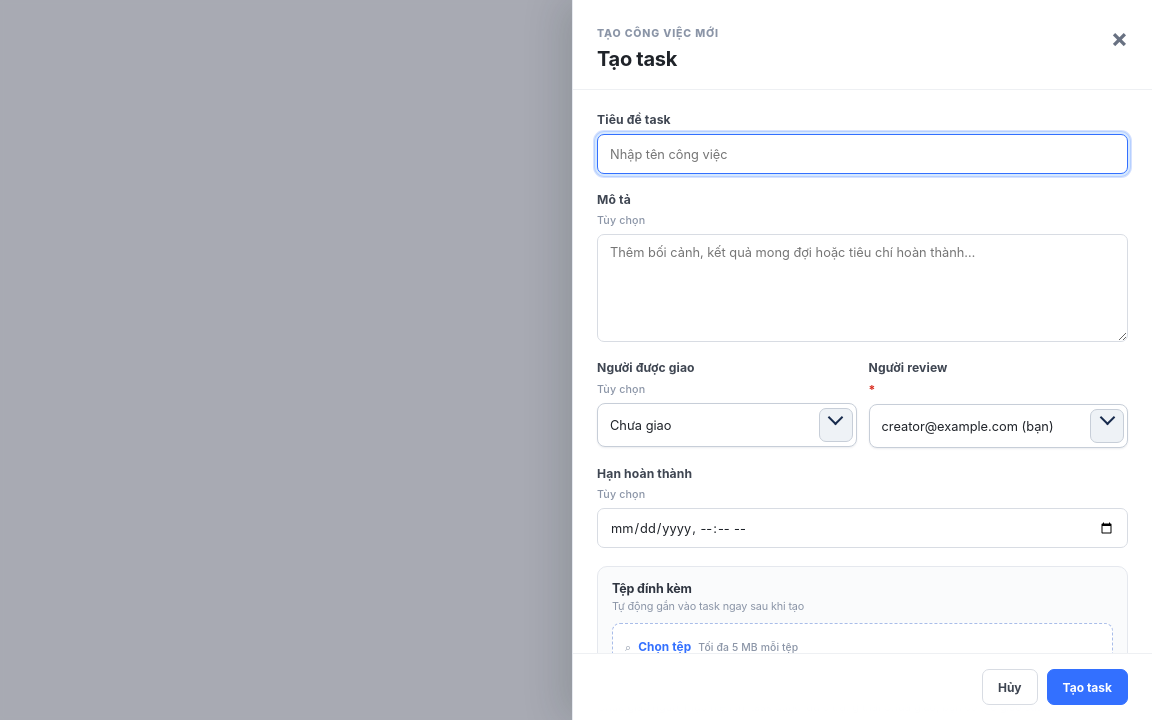
Test: TaskAssignmentDrawer › blocks assigning the reviewer to the same person and keeps the form actionable after correction
Type "Rà soát hồ sơ" into the field labelled "Tiêu đề task" at (862, 154), box [597,134,1128,174]
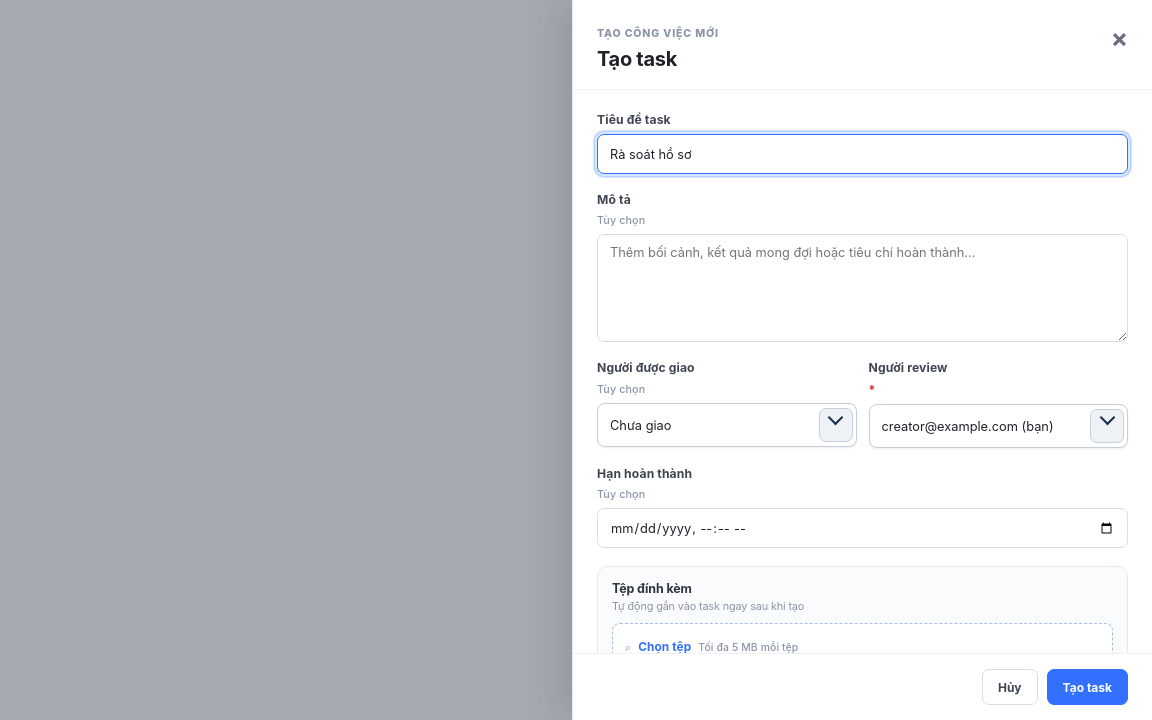
Type "reviewer-id" into the dropdown labelled "Người được giao" at (708, 425), box [598,404,818,446]
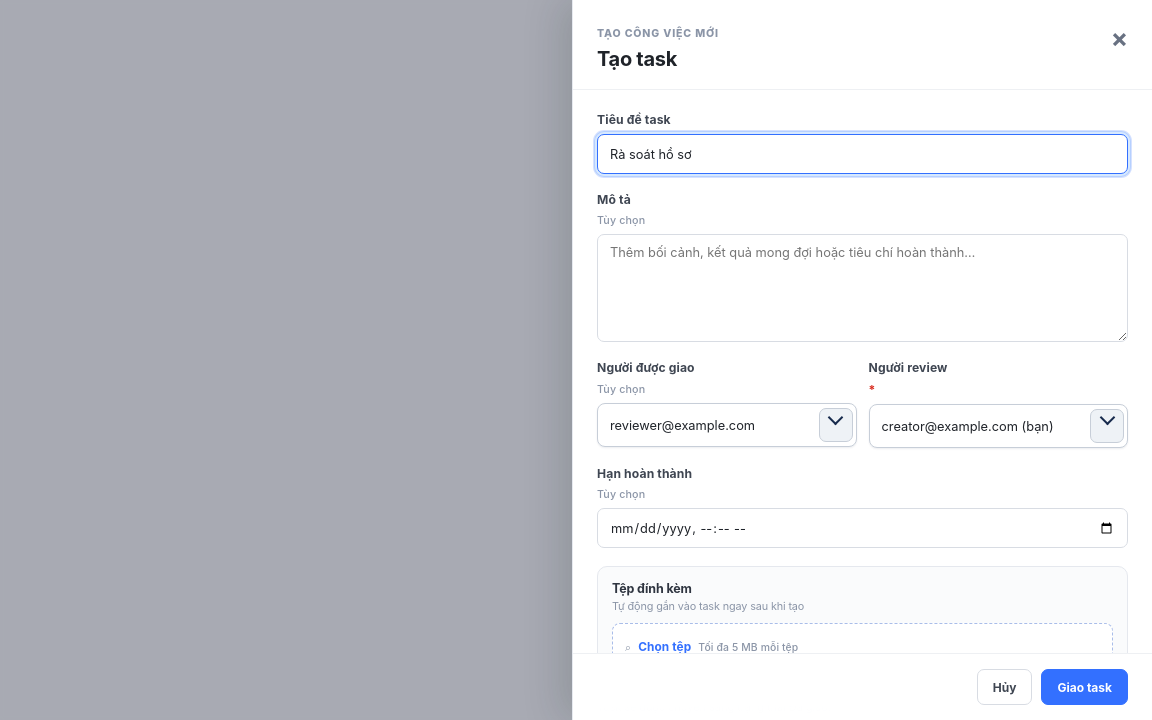
Type "reviewer-id" into the dropdown labelled "Người review" at (980, 426), box [870,405,1090,447]
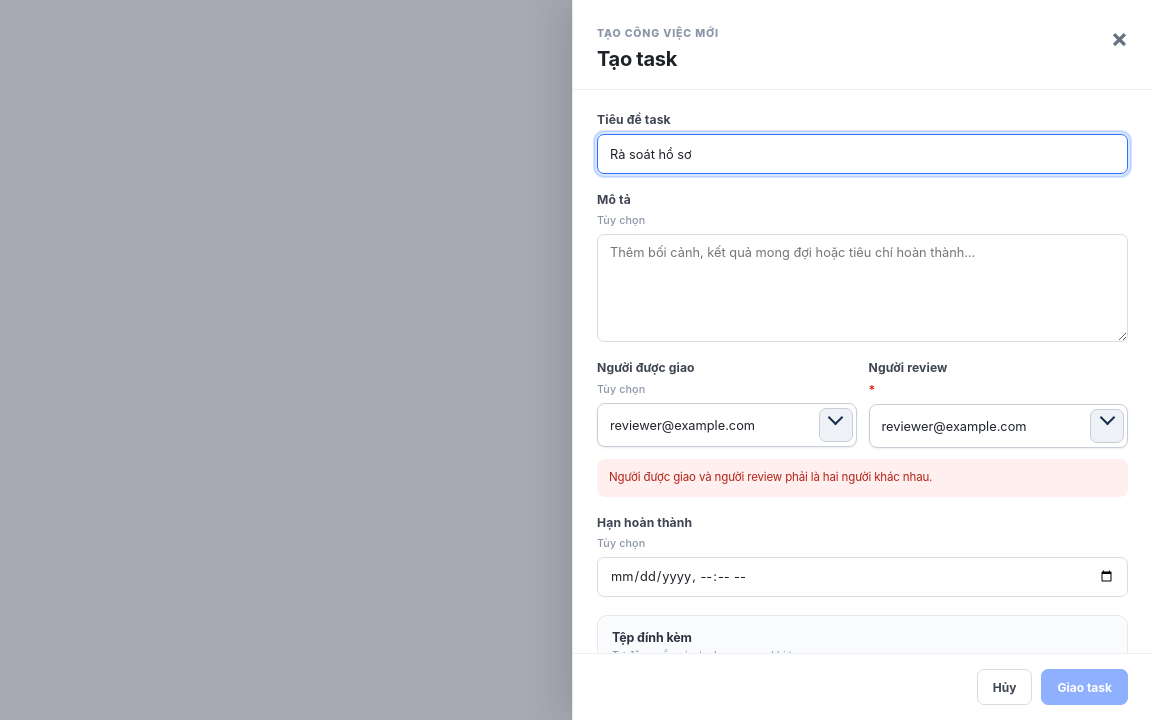
Check: the message reads "Người được giao và người review phải là hai người khác nhau.", box [609,470,932,484]
Check: the button "Giao task" is disabled, box [1042,669,1128,705]
Type "creator-id" into the dropdown labelled "Người review" at (980, 426), box [870,405,1090,447]
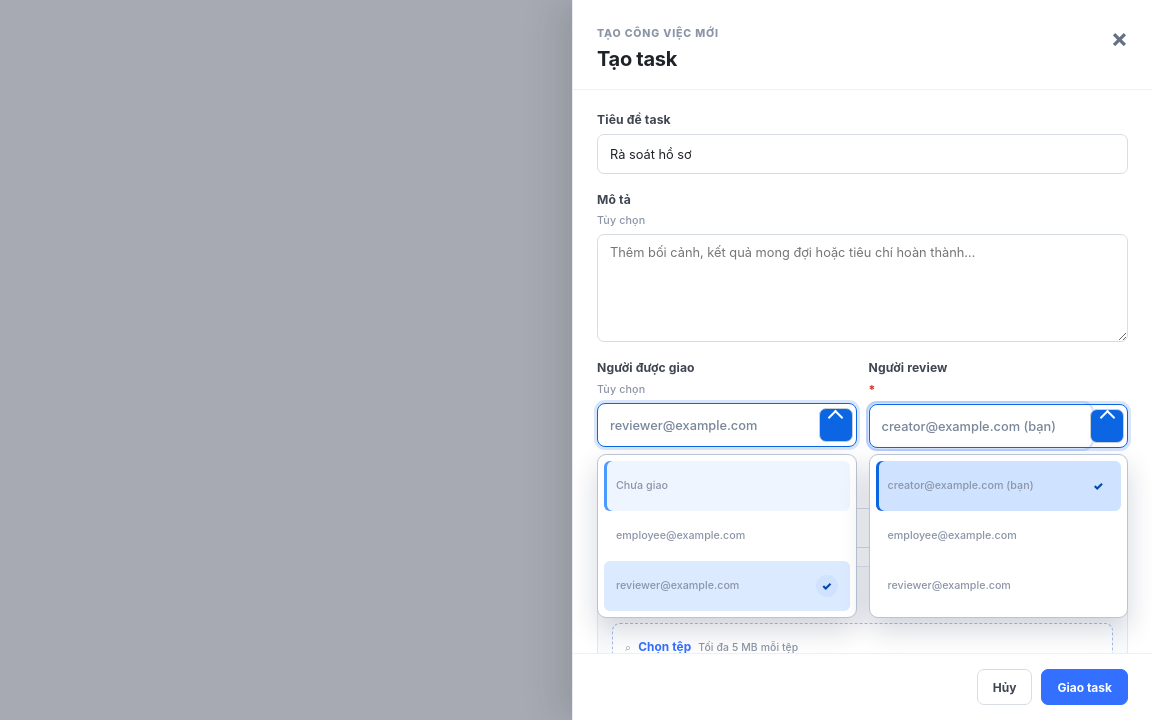
Check: the message "Người được giao và người review phải là hai người khác nhau." is gone
Check: the button "Giao task" is enabled, box [1042,669,1128,705]
